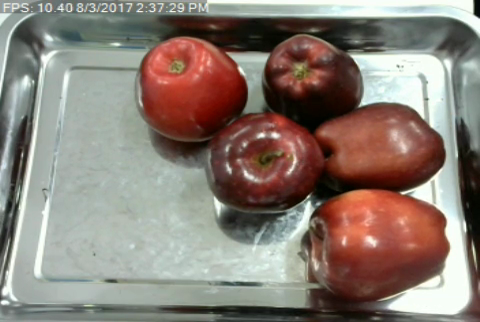Apple: (303, 185, 452, 305), (130, 32, 251, 144), (312, 99, 449, 197), (204, 109, 325, 218), (259, 30, 366, 126)
